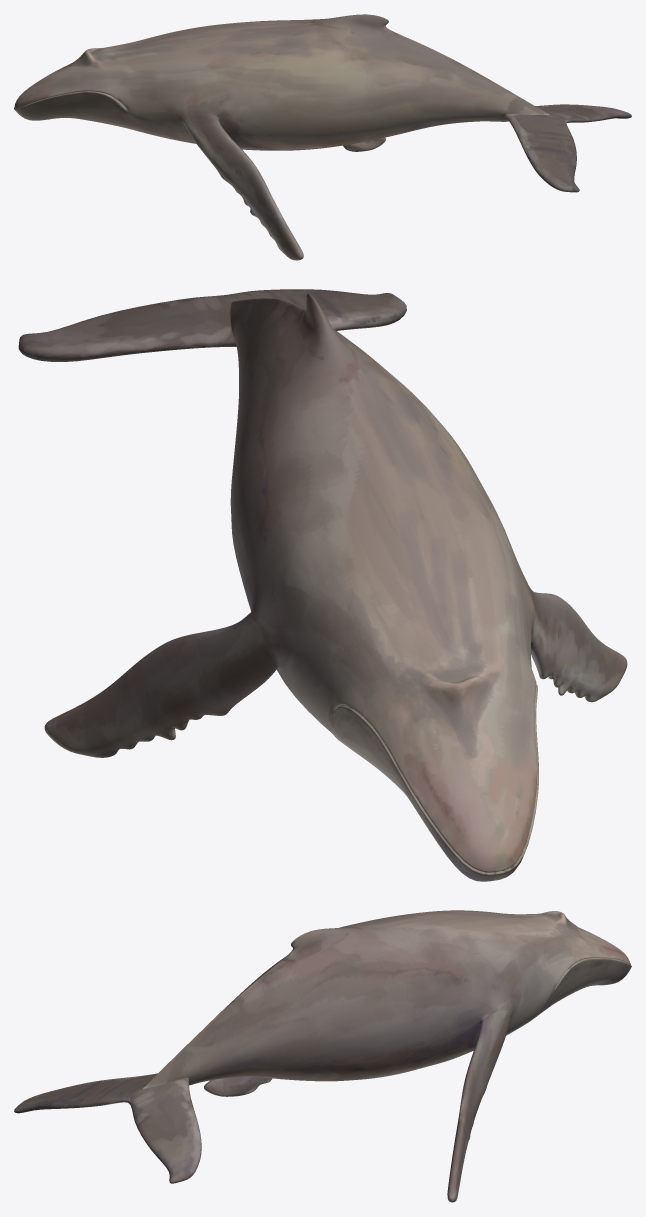
Rendered from whale-3dpaint.glb.
3 views of the same model, one above another, from view 1: azimuth 30°, elevation 25°; view 2: azimuth 150°, elevation 25°; view 3: azimuth 270°, elevation 25° (orthographic). The views are drawn at different scales.
Visible parts, largest first — view 1: 10054_Whale_v2; view 2: 10054_Whale_v2; view 3: 10054_Whale_v2.
Part boxes in pixels (x1,y1,x2,y2): 10054_Whale_v2: (14, 14, 631, 260); 10054_Whale_v2: (18, 289, 627, 881); 10054_Whale_v2: (14, 910, 631, 1202).
Size of the model in its own units: 0.6202 by 0.2663 by 0.641.
1 material, 1 textured.
